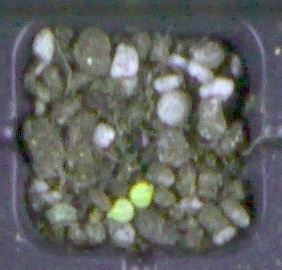chilli seed: (128, 180, 154, 209), (106, 196, 135, 221)
